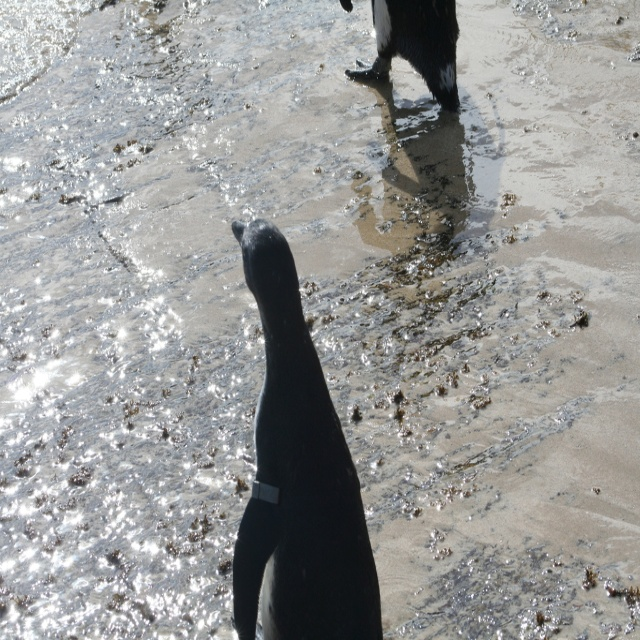Penguin: (211, 191, 387, 640)
